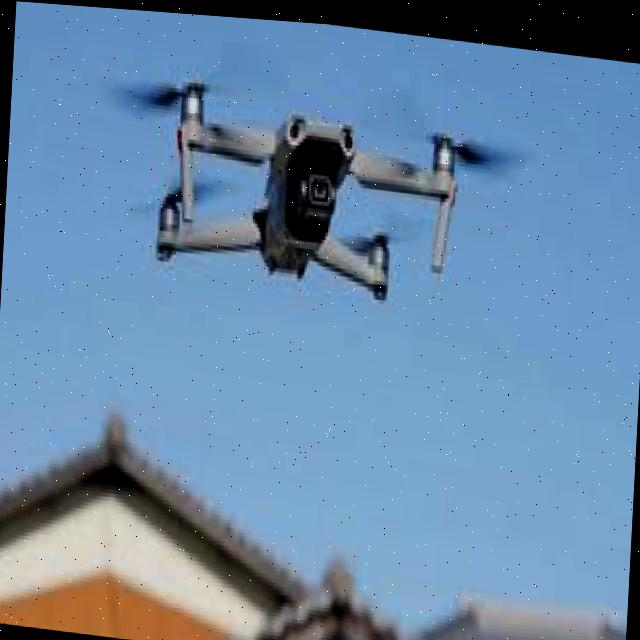drone: (105, 51, 508, 327)
